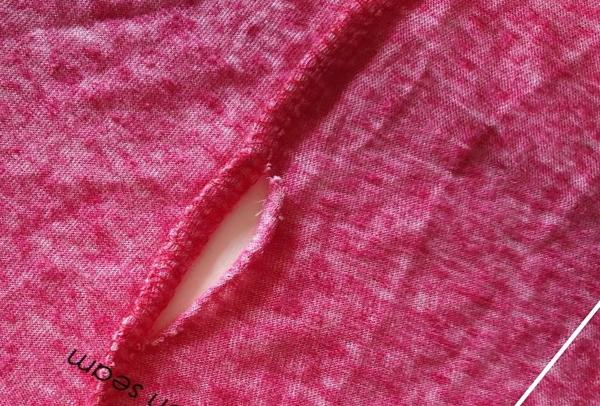hole: (139, 166, 300, 351)
